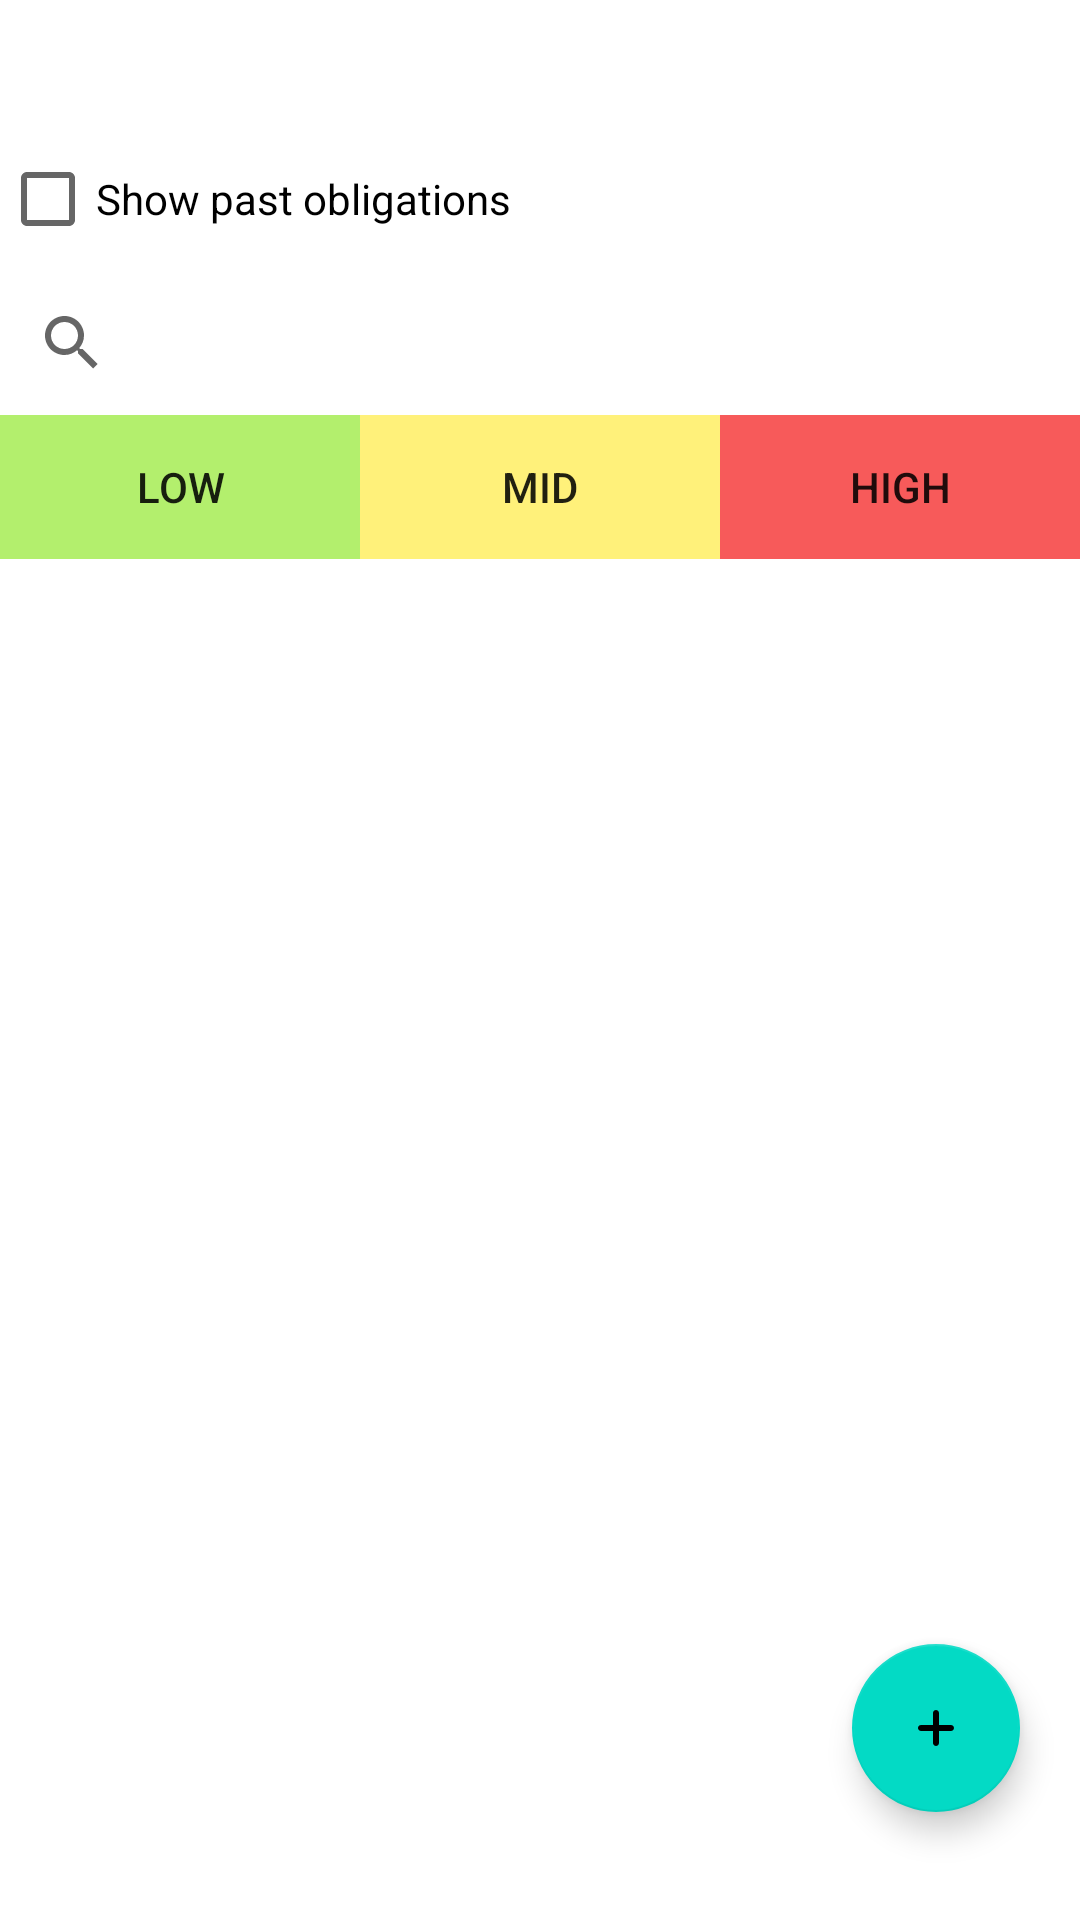

Screen size 1080x1920. Icon name, then its center in pixels as (x,y):
floating add: (936,1728)
